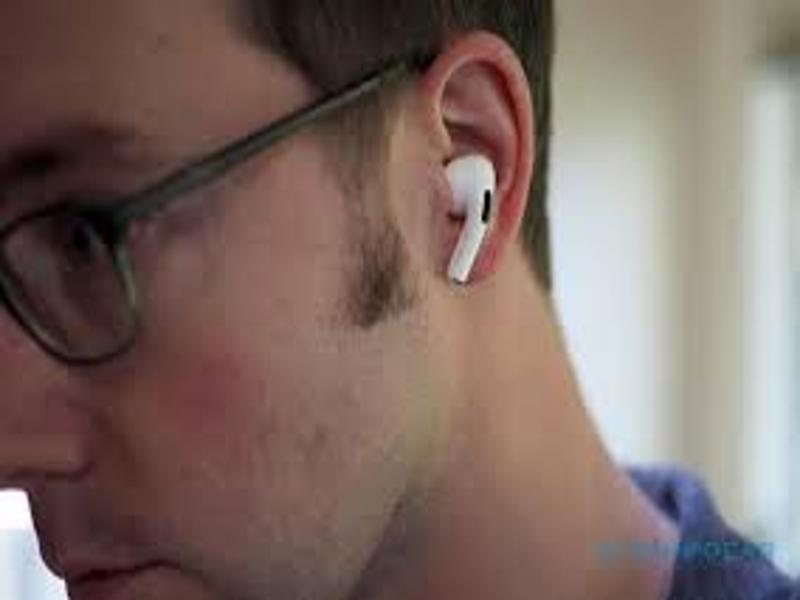headphone: (442, 151, 498, 286)
